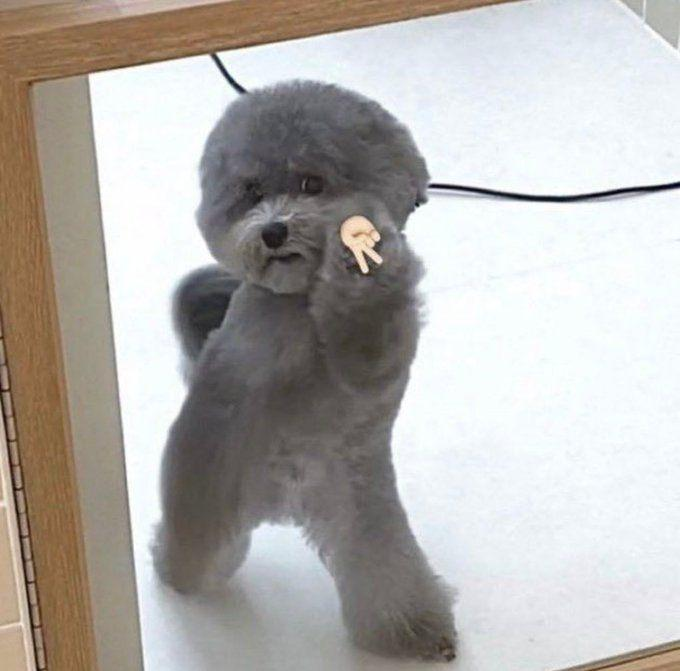adult_dog: (145, 78, 462, 664)
